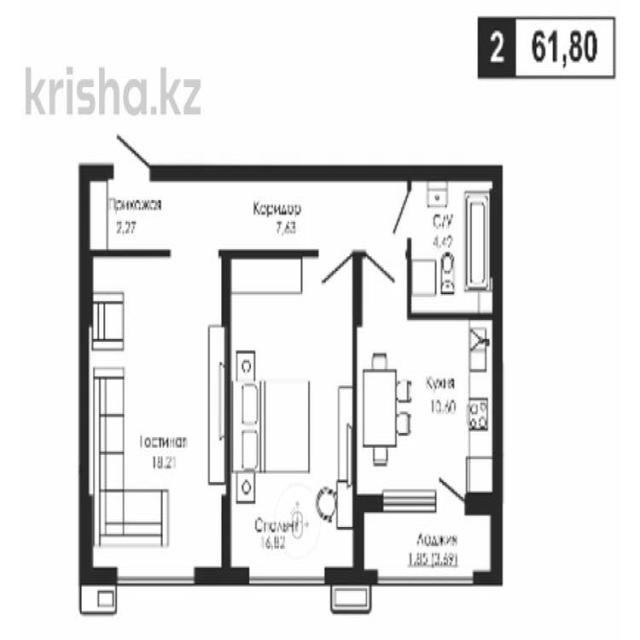balcony: (362, 504, 501, 580)
bathroom: (408, 168, 503, 314)
hallway: (171, 169, 407, 252), (81, 170, 168, 252)
kitchen: (361, 314, 498, 505)
living_room: (85, 260, 228, 571), (228, 254, 358, 574)
